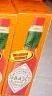grozi_98: (0, 0, 52, 96)
